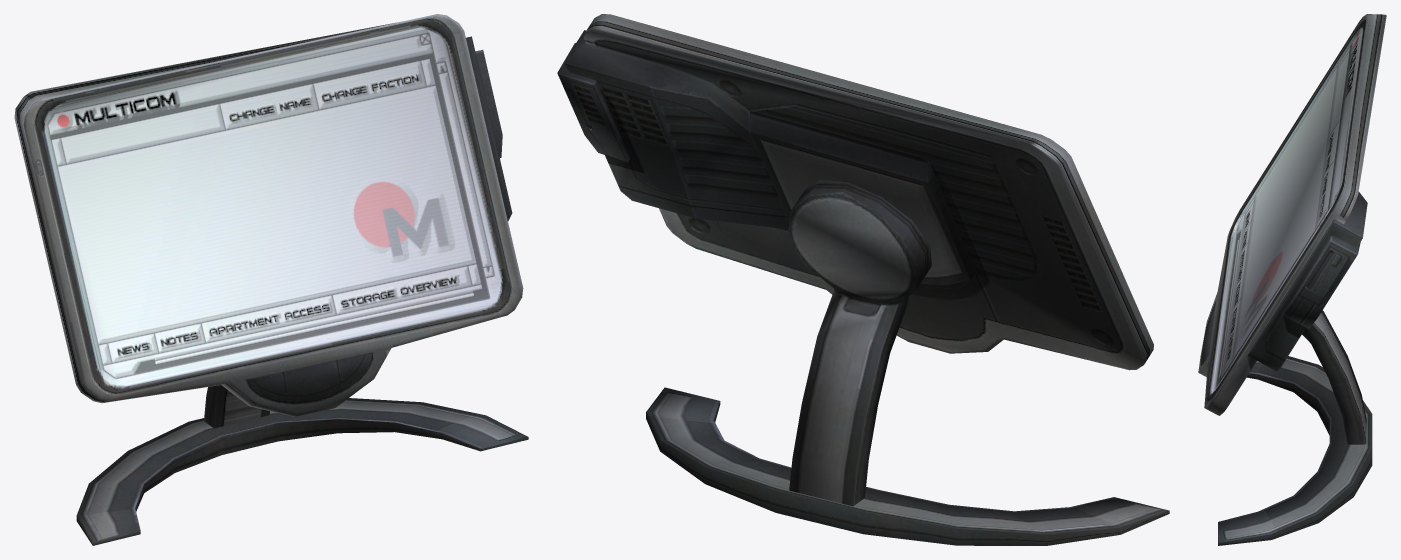
Rendered from multicom.glb.
The picture shows the model from 3 angles, left to right: view 1: azimuth 30°, elevation 25°; view 2: azimuth 150°, elevation 25°; view 3: azimuth 270°, elevation 25°; orthographic projection. The views are drawn at different scales.
Visible parts, largest first — view 1: Box05; view 2: Box05; view 3: Box05.
Part boxes in pixels (bbox=[...]): Box05: bbox=[14, 14, 528, 545]; Box05: bbox=[557, 14, 1169, 545]; Box05: bbox=[1198, 14, 1386, 545].
Size of the model in its own units: 41.99 by 33.77 by 16.51.
Materials: 1 (1 with a texture image).
